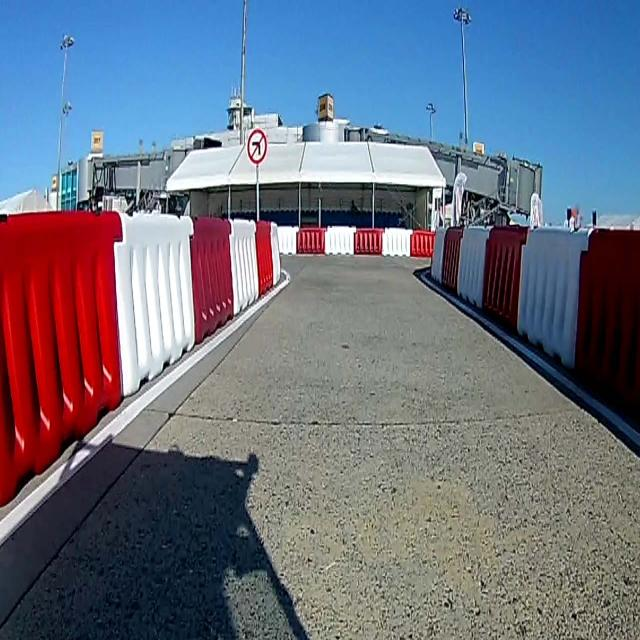soladonulmez: (249, 129, 265, 163)
